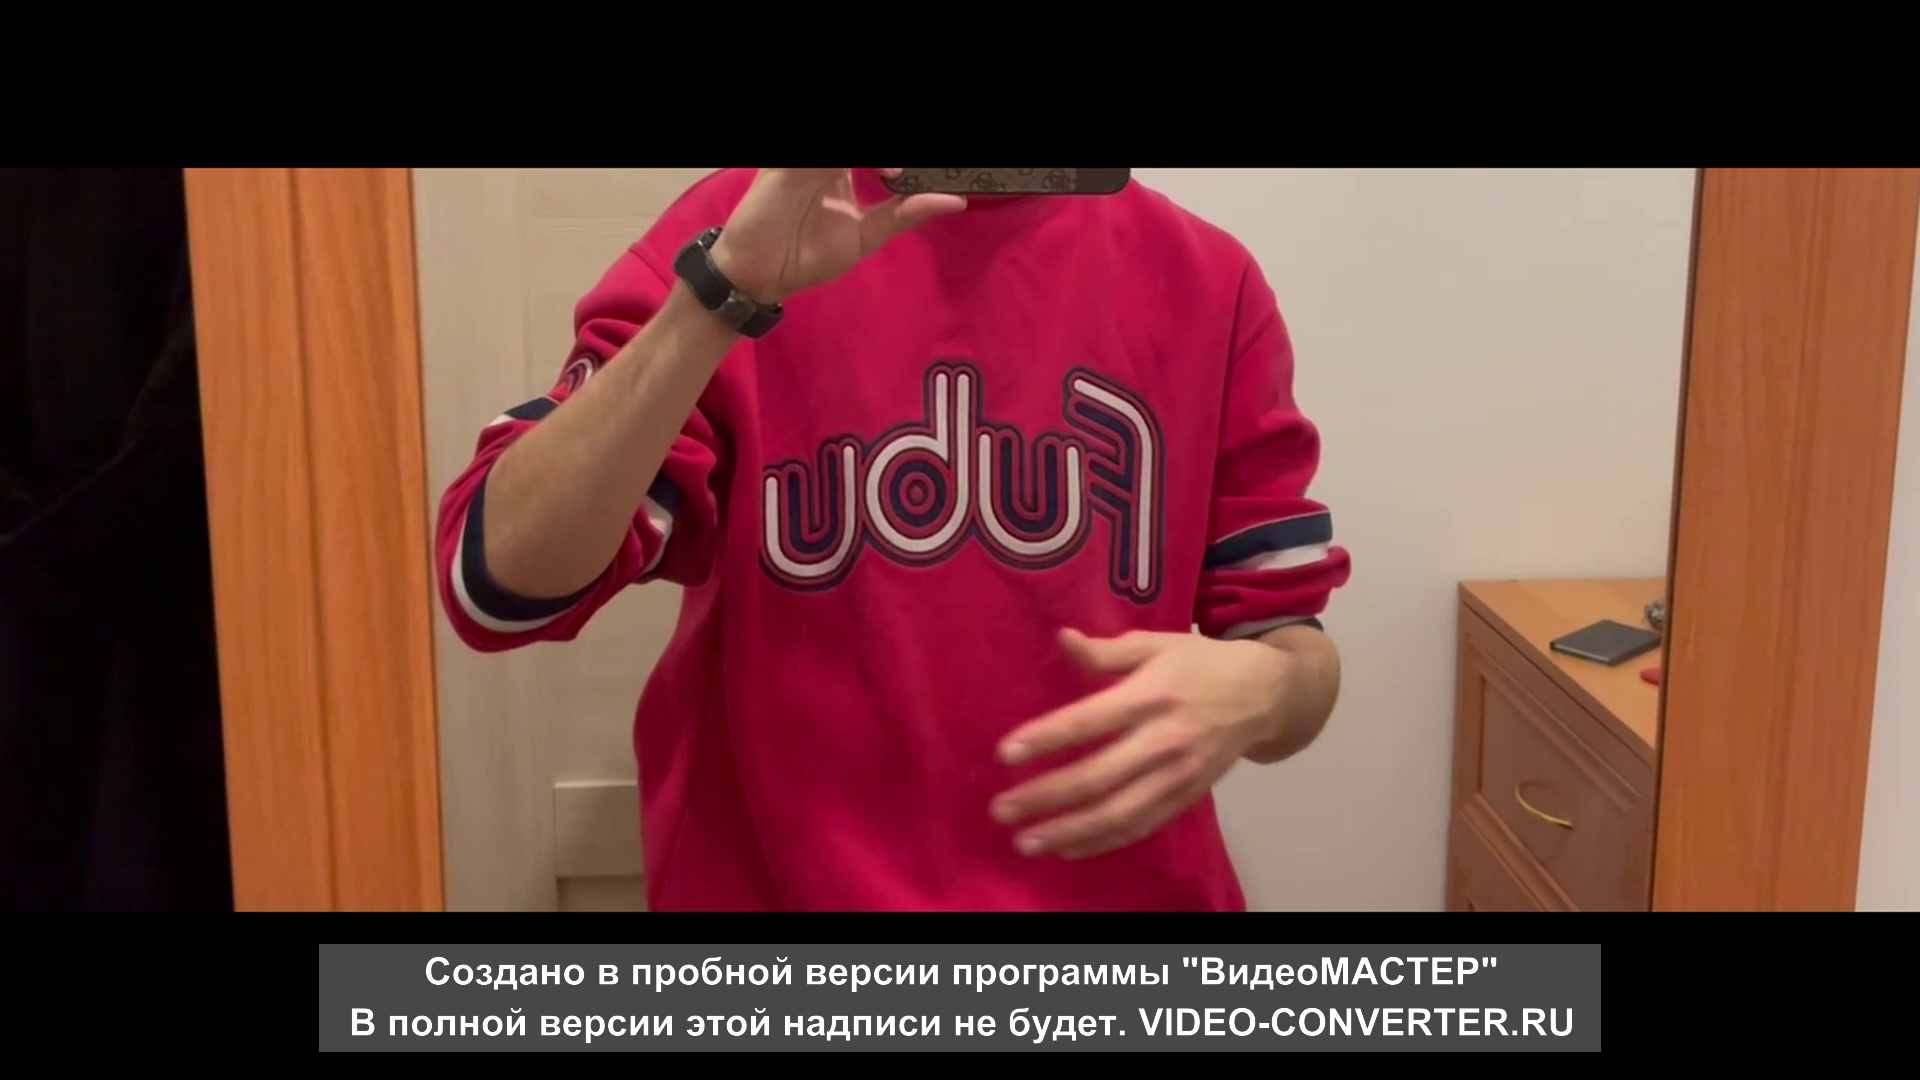Кисть: (990, 625, 1282, 860)
